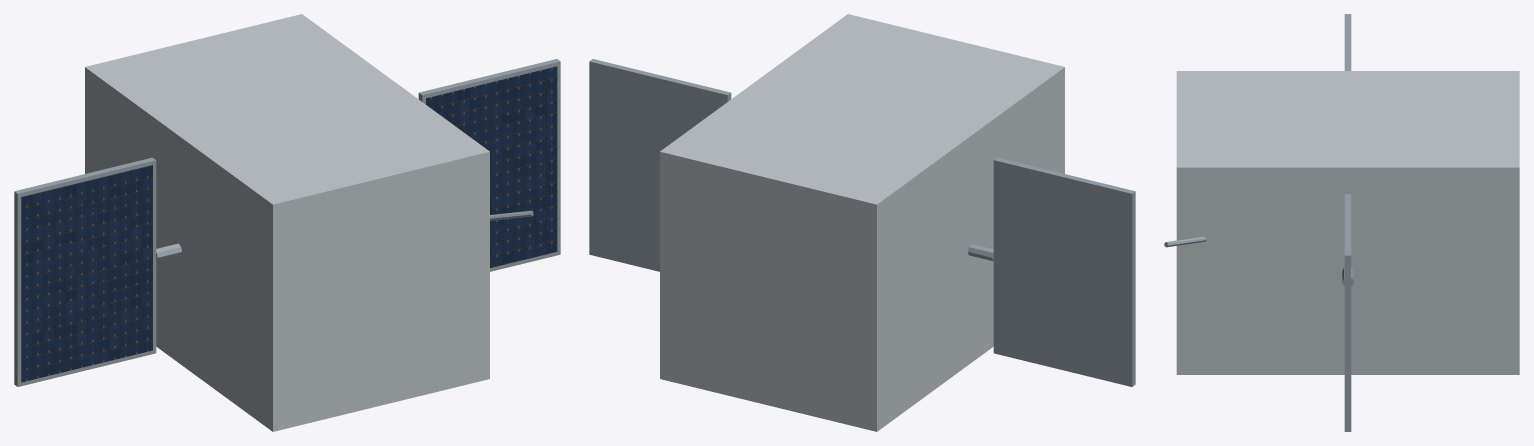
Rendered from ref-hunter-60089.glb.
3 renders of one model, left to right at view 1: azimuth 30°, elevation 25°; view 2: azimuth 150°, elevation 25°; view 3: azimuth 270°, elevation 25°, orthographic. The views are drawn at different scales.
Parts seen in each view (by area): view 1: Spacecraft body, Photovoltaic laminates (×2), Array frame (×2); view 2: Spacecraft body, Array frame (×2); view 3: Spacecraft body, Array frame (×2).
Boxes of the visible parts, bbox=[...] form: Spacecraft body: bbox=[85, 14, 489, 431]; Photovoltaic laminates (×2): bbox=[21, 66, 557, 382]; Array frame (×2): bbox=[14, 59, 560, 386]; Spacecraft body: bbox=[660, 14, 1064, 431]; Array frame (×2): bbox=[589, 59, 1135, 386]; Spacecraft body: bbox=[1176, 71, 1519, 374]; Array frame (×2): bbox=[1344, 14, 1351, 431].
Bounding box in the file's own units: 0.5 × 0.2 × 0.3107.
3 materials, 1 textured.
